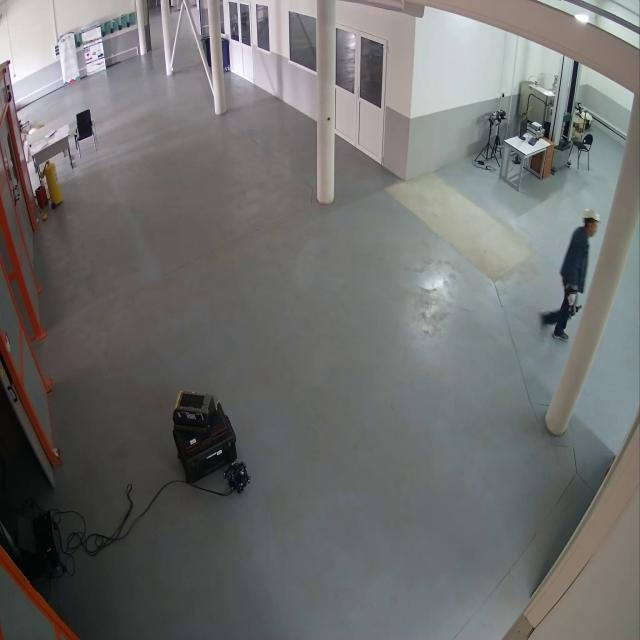Hardhat: (582, 206, 602, 225)
Person: (538, 203, 603, 344)
